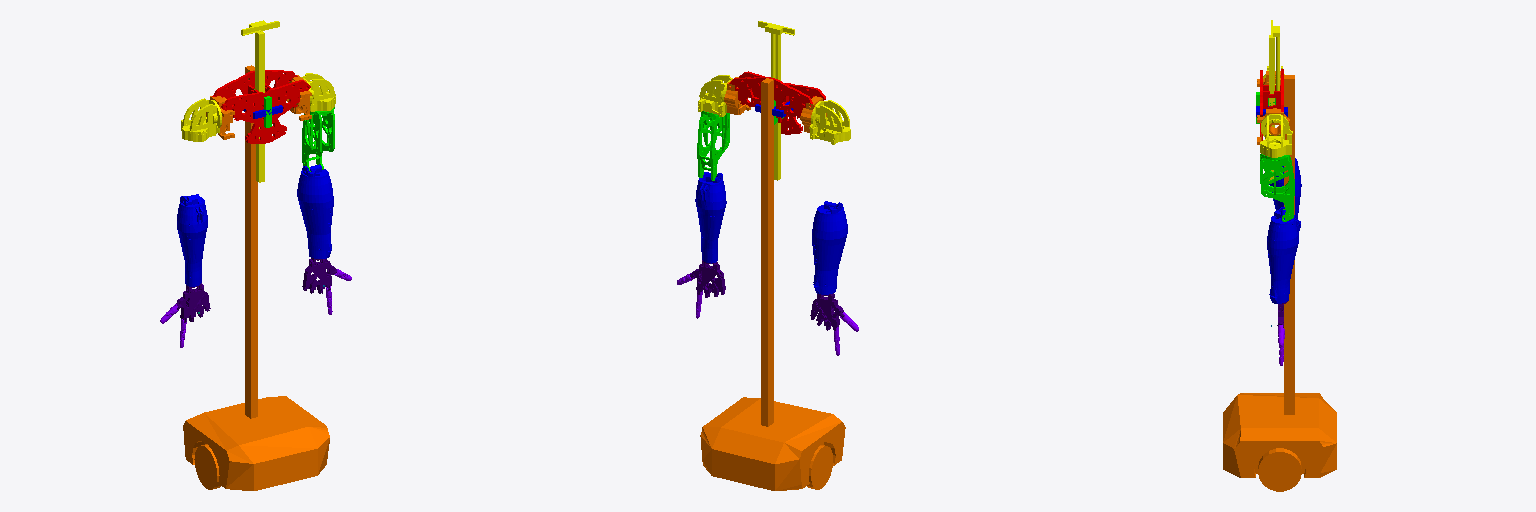
The robot description file, URDF, robot "robo_hand":
<?xml version="1.0" ?>
<!-- =================================================================================== -->
<!-- |    This document was autogenerated by xacro from robo_two_arms_realsense.xacro  | -->
<!-- |    EDITING THIS FILE BY HAND IS NOT RECOMMENDED                                 | -->
<!-- =================================================================================== -->
<robot name="robo_hand" xmlns:xacro="http://ros.org/wiki/xacro">
  <!-- Define a number of dimensions using properties -->
  <!--property name="arm_offset_x" value="-0.143" /-->
  <!--property name="arm_offset_y" value="-0.032" /-->
  <!--property name="arm_offset_z" value="1.302" /-->
  <!-- Include all component files -->
  <!-- Materials -->
  <material name="red">
    <color rgba="1.0 0.0 0.0 0.8"/>
  </material>
  <material name="orange">
    <color rgba="1.0 0.5 0.0 0.8"/>
  </material>
  <material name="yellow">
    <color rgba="1.0 1.0 0.0 0.8"/>
  </material>
  <material name="green">
    <color rgba="0.0 1.0 0.0 0.8"/>
  </material>
  <material name="blue">
    <color rgba="0.0 0.0 1.0 0.8"/>
  </material>
  <material name="indigo">
    <color rgba="0.294 0.0 0.510 0.8"/>
  </material>
  <material name="violet">
    <color rgba="0.561 0.0 1.0 0.8"/>
  </material>
  <material name="realsensecolor">
    <color rgba="0.141 0.529 0.757 0.8"/>
  </material>
  <material name="Black">
    <color rgba="0.2 0.2 0.2 1.0"/>
  </material>
  <material name="TransparentBlack">
    <color rgba="0.2 0.2 0.2 0.8"/>
  </material>
  <material name="Orange">
    <color rgba="1.0  0.55 0.0 1.0"/>
  </material>
  <material name="Grey">
    <color rgba="0.7 0.7 0.7 1.0"/>
  </material>
  <material name="DarkGrey">
    <color rgba="0.3 0.3 0.3 1.0"/>
  </material>
  <material name="Red">
    <color rgba="0.8 0.0 0.0 1.0"/>
  </material>
  <material name="White">
    <color rgba="1.0 1.0 1.0 1.0"/>
  </material>
  <material name="OffWhite">
    <color rgba="0.8 0.8 0.8 1.0"/>
  </material>
  <material name="Blue">
    <color rgba="0.0 0.0 0.8 1.0"/>
  </material>
  <material name="Green">
    <color rgba="0.0 0.8 0.0 1.0"/>
  </material>
  <material name="TransparentGreen">
    <color rgba="0.0 0.8 0.0 0.5"/>
  </material>
  <!-- Variables  -->
  <!-- The base xacro macro -->
  <!-- Define a number of dimensions using properties -->
  <!-- Define the torso -->
  <!-- Now we can start using the macros included above to define the actual robot -->
  <!-- Add the base and wheels -->
  <link name="base_link">
    <visual>
      <origin rpy="0 0 0" xyz="0 0 0"/>
      <geometry>
        <mesh filename="package://robo_description/meshes/base/vis/vis_basewheels_03.STL" scale="0.001 0.001 0.001"/>
      </geometry>
      <material name="orange"/>
    </visual>
    <collision>
      <origin rpy="0 0 0" xyz="0 0 0"/>
      <geometry>
        <mesh filename="package://robo_description/meshes/base/col/col_basewheels_03.STL" scale="0.001 0.001 0.001"/>
      </geometry>
    </collision>
  </link>
  <link name="base_footprint">
    <visual>
      <origin rpy="0 0 0" xyz="0 0 0"/>
      <geometry>
        <box size="0.05 0.05 0.001"/>
      </geometry>
      <material name="TransparentGreen"/>
    </visual>
  </link>
  <joint name="base_joint" type="fixed">
    <origin rpy="0 0 0" xyz="0.0 0.0 0.0"/>
    <parent link="base_footprint"/>
    <child link="base_link"/>
  </joint>
  <!-- Attach the torso -->
  <joint name="base_torso_joint" type="fixed">
    <origin rpy="0 0 0" xyz="0.0 -0.026 1.255"/>
    <parent link="base_link"/>
    <child link="torso_link"/>
  </joint>
  <link name="torso_link">
    <visual>
      <origin rpy="0 0 0" xyz="0 0 0"/>
      <geometry>
        <mesh filename="package://robo_description/meshes/torso/vis/vis_torso_03.STL" scale="0.001 0.001 0.001"/>
      </geometry>
      <material name="red"/>
    </visual>
    <collision>
      <origin rpy="0 0 0" xyz="0 0 0"/>
      <geometry>
        <mesh filename="package://robo_description/meshes/torso/col/col_torso_03.STL" scale="0.001 0.001 0.001"/>
      </geometry>
    </collision>
  </link>
  <!-- Attach the camera -->
  <!-- Telescoping neck joint/link -->
  <joint name="torso_head_tele_joint" type="prismatic">
    <origin rpy="0 0 3.14159" xyz="0.0 0.0 0.0"/>
    <parent link="torso_link"/>
    <child link="head_tele_link"/>
    <axis xyz="0 0 1"/>
    <origin rpy="0 0 0" xyz="0 0 0"/>
    <limit effort="1.0" lower="-0.15" upper="0.15" velocity="0.1"/>
  </joint>
  <link name="head_tele_link">
    <visual>
      <origin rpy="0 0 0" xyz="0 0 0"/>
      <geometry>
        <box size="0.02 0.02 0.5"/>
        <!--mesh filename="package://robo_description/meshes/camera/vis/vis_camera_03.STL" scale="${scale} ${scale} ${scale}" /-->
      </geometry>
      <material name="yellow"/>
    </visual>
    <collision>
      <origin rpy="0 0 0" xyz="0 0 0"/>
      <geometry>
        <box size="0.02 0.02 0.5"/>
        <!--mesh filename="package://robo_description/meshes/camera/col/col_camera_03.STL" scale="${scale} ${scale} ${scale}" /-->
      </geometry>
    </collision>
  </link>
  <!-- Pan joint/link -->
  <joint name="head_pan_joint" type="revolute">
    <axis xyz="0 0 1"/>
    <origin rpy="0 0 0" xyz="0 0 0"/>
    <limit effort="1000.0" lower="-1.570795" upper="1.570795" velocity="0.5"/>
    <parent link="head_tele_link"/>
    <child link="head_pan_link"/>
  </joint>
  <link name="head_pan_link">
    <visual>
      <origin rpy="0 0 0" xyz="0 0 0"/>
      <geometry>
        <box size="0.1 0.1 0.02"/>
      </geometry>
      <material name="blue"/>
    </visual>
    <collision>
      <origin rpy="0 0 0" xyz="0 0 0"/>
      <geometry>
        <box size="0.1 0.1 0.02"/>
      </geometry>
    </collision>
  </link>
  <!-- Tilt joint/link -->
  <joint name="head_tilt_joint" type="revolute">
    <axis xyz="1 0 0"/>
    <origin rpy="0 0 0" xyz="0 0 0"/>
    <limit effort="1000.0" lower="-0.7853975" upper="0.7853975" velocity="0.5"/>
    <parent link="head_pan_link"/>
    <child link="head_tilt_link"/>
  </joint>
  <link name="head_tilt_link">
    <visual>
      <origin rpy="0 0 0" xyz="0 0 0"/>
      <geometry>
        <box size="0.02 0.1 0.1"/>
      </geometry>
      <material name="green"/>
    </visual>
    <collision>
      <origin rpy="0 0 0" xyz="0 0 0"/>
      <geometry>
        <box size="0.02 0.1 0.1"/>
      </geometry>
    </collision>
  </link>
  <!-- Realsense joint/link -->
  <joint name="head_realsense_joint" type="fixed">
    <origin rpy="0 0 3.14159" xyz="0.0 0.0 0.0"/>
    <parent link="head_tilt_link"/>
    <child link="realsense_frame"/>
  </joint>
  <link name="realsense_frame">
    <visual>
      <origin rpy="0 0 0" xyz="0 0 0"/>
      <geometry>
        <mesh filename="package://robo_description/meshes/camera/vis/vis_camera_03.STL" scale="0.001 0.001 0.001"/>
      </geometry>
      <material name="yellow"/>
    </visual>
    <collision>
      <origin rpy="0 0 0" xyz="0 0 0"/>
      <geometry>
        <!--box size="0.1 0.02 0.02"/-->
        <mesh filename="package://robo_description/meshes/camera/col/col_camera_03.STL" scale="0.001 0.001 0.001"/>
      </geometry>
    </collision>
  </link>
  <!-- camera_depth_optical_frame -->
  <joint name="head_depth_joint" type="fixed">
    <origin rpy="0 0 0" xyz="0 0.0 0.268"/>
    <parent link="realsense_frame"/>
    <child link="camera_depth_optical_frame"/>
  </joint>
  <link name="camera_depth_optical_frame">
    <inertial>
      <mass value="0.000001"/>
      <origin xyz="0 0 0"/>
      <inertia ixx="0.0001" ixy="0.0" ixz="0.0" iyy="0.0001" iyz="0.0" izz="0.0001"/>
    </inertial>
  </link>
  <!-- camera_color_optical_frame -->
  <joint name="head_rgb_joint" type="fixed">
    <origin rpy="0 0 0" xyz="0.05 0 0.268"/>
    <parent link="realsense_frame"/>
    <child link="camera_color_optical_frame"/>
  </joint>
  <link name="camera_color_optical_frame">
    <inertial>
      <mass value="0.000001"/>
      <origin xyz="0 0 0"/>
      <inertia ixx="0.0001" ixy="0.0" ixz="0.0" iyy="0.0001" iyz="0.0" izz="0.0001"/>
    </inertial>
  </link>
  <!-- Attach the right arm -->
  <!-- arm base joint -->
  <link name="right_arm_base_link"/>
  <joint name="right_arm_base_joint" type="fixed">
    <origin rpy="0 0 0" xyz="-0.143 0.0055 0.047"/>
    <parent link="torso_link"/>
    <child link="right_arm_base_link"/>
  </joint>
  <!-- Shoulder_A -->
  <link name="right_arm_shouldera_link">
    <visual>
      <origin rpy="0 0 0" xyz="0 0 0"/>
      <geometry>
        <mesh filename="package://robo_description/meshes/arm/vis/vis_right_shouldera_03.STL" scale="0.001 0.001 0.001"/>
      </geometry>
      <material name="orange"/>
    </visual>
    <collision>
      <origin rpy="0 0 0" xyz="0 0 0"/>
      <geometry>
        <mesh filename="package://robo_description/meshes/arm/col/col_right_shouldera_03.STL" scale="0.001 0.001 0.001"/>
      </geometry>
    </collision>
  </link>
  <joint name="right_arm_out_joint" type="revolute">
    <axis xyz="0 1.0 0"/>
    <origin rpy="0 0 0" xyz="0 0 0"/>
    <limit effort="1000.0" lower="0.0" upper="1.5707963" velocity="0.5"/>
    <parent link="right_arm_base_link"/>
    <child link="right_arm_shouldera_link"/>
  </joint>
  <!-- Shoulder_B -->
  <link name="right_arm_shoulderb_link">
    <visual>
      <origin rpy="0 0 0" xyz="0 0 0"/>
      <geometry>
        <mesh filename="package://robo_description/meshes/arm/vis/vis_right_shoulderb_03.STL" scale="0.001 0.001 0.001"/>
      </geometry>
      <material name="yellow"/>
    </visual>
    <collision>
      <origin rpy="0 0 0" xyz="0 0 0"/>
      <geometry>
        <mesh filename="package://robo_description/meshes/arm/col/col_right_shoulderb_03.STL" scale="0.001 0.001 0.001"/>
      </geometry>
    </collision>
  </link>
  <joint name="right_arm_fwd_joint" type="revolute">
    <axis xyz="-1 0 0"/>
    <origin rpy="0 0 0" xyz="-0.012 0.005 -0.04"/>
    <limit effort="1000.0" lower="0.0" upper="1.570795" velocity="0.5"/>
    <parent link="right_arm_shouldera_link"/>
    <child link="right_arm_shoulderb_link"/>
  </joint>
  <!-- Biceps -->
  <link name="right_arm_biceps_link">
    <visual>
      <origin rpy="0 0 0" xyz="0 0 0"/>
      <geometry>
        <mesh filename="package://robo_description/meshes/arm/vis/vis_right_biceps_03.STL" scale="0.001 0.001 0.001"/>
      </geometry>
      <material name="green"/>
    </visual>
    <collision>
      <origin rpy="0 0 0" xyz="0 0 0"/>
      <geometry>
        <mesh filename="package://robo_description/meshes/arm/col/col_right_biceps_03.STL" scale="0.001 0.001 0.001"/>
      </geometry>
    </collision>
  </link>
  <joint name="right_arm_rotate_joint" type="revolute">
    <axis xyz="0 0 -1"/>
    <origin rpy="0 0 0" xyz="-0.06 0 -0.059"/>
    <limit effort="1000.0" lower="-1.570795" upper="1.570795" velocity="0.5"/>
    <parent link="right_arm_shoulderb_link"/>
    <child link="right_arm_biceps_link"/>
  </joint>
  <!-- Forearm -->
  <link name="right_arm_forearm_link">
    <visual>
      <origin rpy="0 0 0" xyz="0 0 0"/>
      <geometry>
        <mesh filename="package://robo_description/meshes/arm/vis/vis_right_forearm_03.STL" scale="0.001 0.001 0.001"/>
      </geometry>
      <material name="blue"/>
    </visual>
    <collision>
      <origin rpy="0 0 0" xyz="0 0 0"/>
      <geometry>
        <mesh filename="package://robo_description/meshes/arm/col/col_right_forearm_03.STL" scale="0.001 0.001 0.001"/>
      </geometry>
    </collision>
  </link>
  <joint name="right_elbow_joint" type="revolute">
    <axis xyz="-1 0 0"/>
    <origin rpy="0 0 0" xyz="0 0.029 -0.225"/>
    <limit effort="1000.0" lower="0.0" upper="1.570795" velocity="0.5"/>
    <parent link="right_arm_biceps_link"/>
    <child link="right_arm_forearm_link"/>
  </joint>
  <!-- Wrist/Hand -->
  <link name="right_arm_wrist_link">
    <visual>
      <origin rpy="0 0 0" xyz="0 0 0"/>
      <geometry>
        <mesh filename="package://robo_description/meshes/arm/vis/vis_right_hand_03.STL" scale="0.001 0.001 0.001"/>
      </geometry>
      <material name="indigo"/>
    </visual>
    <collision>
      <origin rpy="0 0 0" xyz="0 0 0"/>
      <geometry>
        <mesh filename="package://robo_description/meshes/arm/col/col_right_hand_03.STL" scale="0.001 0.001 0.001"/>
      </geometry>
    </collision>
  </link>
  <joint name="right_wrist_joint" type="revolute">
    <axis xyz="0 0 1.0"/>
    <!--origin rpy="0 0 0" xyz=".009972 .012326 -.288718"/-->
    <origin rpy="0 0 0" xyz="0.008 0.01 -0.2888"/>
    <limit effort="1000.0" lower="0.0" upper="3.14159" velocity="0.5"/>
    <parent link="right_arm_forearm_link"/>
    <child link="right_arm_wrist_link"/>
  </joint>
  <!-- Attach the right gripper -->
  <!-- gripper base joint -->
  <link name="right_gripper_base_link"/>
  <joint name="right_gripper_base_joint" type="fixed">
    <origin rpy="0 0 0" xyz="0 0 0"/>
    <parent link="right_arm_wrist_link"/>
    <child link="right_gripper_base_link"/>
  </joint>
  <!-- Index -->
  <link name="right_gripper_index_link">
    <inertial>
      <mass value="0.00001"/>
      <origin xyz="0 0 0"/>
      <inertia ixx="1.0" ixy="0.0" ixz="0.0" iyy="1.0" iyz="0.0" izz="1.0"/>
    </inertial>
    <visual>
      <origin rpy="0 0 0" xyz="0 0 0"/>
      <geometry>
        <mesh filename="package://robo_description/meshes/arm/vis/vis_right_index_03.STL" scale="0.001 0.001 0.001"/>
      </geometry>
      <material name="violet"/>
    </visual>
    <collision>
      <origin rpy="0 0 0" xyz="0 0 0"/>
      <geometry>
        <mesh filename="package://robo_description/meshes/arm/col/col_right_index_03.STL" scale="0.001 0.001 0.001"/>
      </geometry>
    </collision>
  </link>
  <joint name="right_gripper_index_joint" type="revolute">
    <origin rpy="0 0 0" xyz="-0.034 0 -0.119"/>
    <axis xyz="-1 0 0"/>
    <limit effort="1.0" lower="0.0" upper="1.570795" velocity="3.14"/>
    <parent link="right_gripper_base_link"/>
    <child link="right_gripper_index_link"/>
  </joint>
  <!-- Thumb -->
  <link name="right_gripper_thumb_link">
    <inertial>
      <mass value="0.00001"/>
      <origin xyz="0 0 0"/>
      <inertia ixx="1.0" ixy="0.0" ixz="0.0" iyy="1.0" iyz="0.0" izz="1.0"/>
    </inertial>
    <visual>
      <origin rpy="0 0 0" xyz="0 0 0"/>
      <geometry>
        <mesh filename="package://robo_description/meshes/arm/vis/vis_right_thumb_03.STL" scale="0.001 0.001 0.001"/>
      </geometry>
      <material name="violet"/>
    </visual>
    <collision>
      <origin rpy="0 0 0" xyz="0 0 0"/>
      <geometry>
        <mesh filename="package://robo_description/meshes/arm/col/col_right_thumb_03.STL" scale="0.001 0.001 0.001"/>
      </geometry>
    </collision>
  </link>
  <joint name="right_gripper_thumb_joint" type="revolute">
    <origin rpy="0 0 0" xyz="-0.06 0 -0.0685"/>
    <axis xyz="0 0 1.0"/>
    <limit effort="1.0" lower="0.0" upper="1.570795" velocity="3.14"/>
    <parent link="right_gripper_base_link"/>
    <child link="right_gripper_thumb_link"/>
  </joint>
  <!-- Fake gripper link and joint for grasp planning -->
  <link name="right_gripper_link">
    <visual>
      <origin rpy="0 0 0" xyz="0 0 0"/>
      <geometry>
        <box size="0.005 0.005 0.005"/>
      </geometry>
    </visual>
    <collision>
      <origin rpy="0 0 0" xyz="0 0 0"/>
      <geometry>
        <box size="0.005 0.005 0.005"/>
      </geometry>
    </collision>
  </link>
  <joint name="right_gripper_joint" type="fixed">
    <origin rpy="-1.570795 0 0" xyz="0 -0.03 -0.09"/>
    <parent link="right_gripper_base_link"/>
    <child link="right_gripper_link"/>
  </joint>
  <!-- Attach the left arm -->
  <!-- arm base joint -->
  <link name="left_arm_base_link"/>
  <joint name="left_arm_base_joint" type="fixed">
    <origin rpy="0 0 0" xyz="0.143 0.0055 0.047"/>
    <parent link="torso_link"/>
    <child link="left_arm_base_link"/>
  </joint>
  <!-- Shoulder_A -->
  <link name="left_arm_shouldera_link">
    <visual>
      <origin rpy="0 0 0" xyz="0 0 0"/>
      <geometry>
        <mesh filename="package://robo_description/meshes/arm/vis/vis_left_shouldera_03.STL" scale="0.001 0.001 0.001"/>
      </geometry>
      <material name="orange"/>
    </visual>
    <collision>
      <origin rpy="0 0 0" xyz="0 0 0"/>
      <geometry>
        <mesh filename="package://robo_description/meshes/arm/col/col_left_shouldera_03.STL" scale="0.001 0.001 0.001"/>
      </geometry>
    </collision>
  </link>
  <joint name="left_arm_out_joint" type="revolute">
    <axis xyz="0 -1.0 0"/>
    <origin rpy="0 0 0" xyz="0 0 0"/>
    <limit effort="1000.0" lower="0.0" upper="1.5707963" velocity="0.5"/>
    <parent link="left_arm_base_link"/>
    <child link="left_arm_shouldera_link"/>
  </joint>
  <!-- Shoulder_B -->
  <link name="left_arm_shoulderb_link">
    <visual>
      <origin rpy="0 0 0" xyz="0 0 0"/>
      <geometry>
        <mesh filename="package://robo_description/meshes/arm/vis/vis_left_shoulderb_03.STL" scale="0.001 0.001 0.001"/>
      </geometry>
      <material name="yellow"/>
    </visual>
    <collision>
      <origin rpy="0 0 0" xyz="0 0 0"/>
      <geometry>
        <mesh filename="package://robo_description/meshes/arm/col/col_left_shoulderb_03.STL" scale="0.001 0.001 0.001"/>
      </geometry>
    </collision>
  </link>
  <joint name="left_arm_fwd_joint" type="revolute">
    <axis xyz="-1 0 0"/>
    <origin rpy="0 0 0" xyz="0.012 0.005 -0.04"/>
    <limit effort="1000.0" lower="0.0" upper="1.570795" velocity="0.5"/>
    <parent link="left_arm_shouldera_link"/>
    <child link="left_arm_shoulderb_link"/>
  </joint>
  <!-- Biceps -->
  <link name="left_arm_biceps_link">
    <visual>
      <origin rpy="0 0 0" xyz="0 0 0"/>
      <geometry>
        <mesh filename="package://robo_description/meshes/arm/vis/vis_left_biceps_03.STL" scale="0.001 0.001 0.001"/>
      </geometry>
      <material name="green"/>
    </visual>
    <collision>
      <origin rpy="0 0 0" xyz="0 0 0"/>
      <geometry>
        <mesh filename="package://robo_description/meshes/arm/col/col_left_biceps_03.STL" scale="0.001 0.001 0.001"/>
      </geometry>
    </collision>
  </link>
  <joint name="left_arm_rotate_joint" type="revolute">
    <axis xyz="0 0 1"/>
    <origin rpy="0 0 0" xyz="0.06 0 -0.059"/>
    <limit effort="1000.0" lower="-1.570795" upper="1.570795" velocity="0.5"/>
    <parent link="left_arm_shoulderb_link"/>
    <child link="left_arm_biceps_link"/>
  </joint>
  <!-- Forearm -->
  <link name="left_arm_forearm_link">
    <visual>
      <origin rpy="0 0 0" xyz="0 0 0"/>
      <geometry>
        <mesh filename="package://robo_description/meshes/arm/vis/vis_left_forearm_03.STL" scale="0.001 0.001 0.001"/>
      </geometry>
      <material name="blue"/>
    </visual>
    <collision>
      <origin rpy="0 0 0" xyz="0 0 0"/>
      <geometry>
        <mesh filename="package://robo_description/meshes/arm/col/col_left_forearm_03.STL" scale="0.001 0.001 0.001"/>
      </geometry>
    </collision>
  </link>
  <joint name="left_elbow_joint" type="revolute">
    <axis xyz="-1 0 0"/>
    <origin rpy="0 0 0" xyz="0 0.029 -0.225"/>
    <limit effort="1000.0" lower="0.0" upper="1.570795" velocity="0.5"/>
    <parent link="left_arm_biceps_link"/>
    <child link="left_arm_forearm_link"/>
  </joint>
  <!-- Wrist/Hand -->
  <link name="left_arm_wrist_link">
    <visual>
      <origin rpy="0 0 0" xyz="0 0 0"/>
      <geometry>
        <mesh filename="package://robo_description/meshes/arm/vis/vis_left_hand_03.STL" scale="0.001 0.001 0.001"/>
      </geometry>
      <material name="indigo"/>
    </visual>
    <collision>
      <origin rpy="0 0 0" xyz="0 0 0"/>
      <geometry>
        <mesh filename="package://robo_description/meshes/arm/col/col_left_hand_03.STL" scale="0.001 0.001 0.001"/>
      </geometry>
    </collision>
  </link>
  <joint name="left_wrist_joint" type="revolute">
    <axis xyz="0 0 -1.0"/>
    <!--origin rpy="0 0 0" xyz=".009972 .012326 -.288718"/-->
    <origin rpy="0 0 0" xyz="0.008 -0.01 -0.2888"/>
    <limit effort="1000.0" lower="0.0" upper="3.14159" velocity="0.5"/>
    <parent link="left_arm_forearm_link"/>
    <child link="left_arm_wrist_link"/>
  </joint>
  <!-- Attach the left gripper -->
  <!-- gripper base joint -->
  <link name="left_gripper_base_link"/>
  <joint name="left_gripper_base_joint" type="fixed">
    <origin rpy="0 0 0" xyz="0 0 0"/>
    <parent link="left_arm_wrist_link"/>
    <child link="left_gripper_base_link"/>
  </joint>
  <!-- Index -->
  <link name="left_gripper_index_link">
    <inertial>
      <mass value="0.00001"/>
      <origin xyz="0 0 0"/>
      <inertia ixx="1.0" ixy="0.0" ixz="0.0" iyy="1.0" iyz="0.0" izz="1.0"/>
    </inertial>
    <visual>
      <origin rpy="0 0 0" xyz="0 0 0"/>
      <geometry>
        <mesh filename="package://robo_description/meshes/arm/vis/vis_left_index_03.STL" scale="0.001 0.001 0.001"/>
      </geometry>
      <material name="violet"/>
    </visual>
    <collision>
      <origin rpy="0 0 0" xyz="0 0 0"/>
      <geometry>
        <mesh filename="package://robo_description/meshes/arm/col/col_left_index_03.STL" scale="0.001 0.001 0.001"/>
      </geometry>
    </collision>
  </link>
  <joint name="left_gripper_index_joint" type="revolute">
    <origin rpy="0 0 0" xyz="0.034 0 -0.119"/>
    <axis xyz="-1 0 0"/>
    <limit effort="1.0" lower="0.0" upper="1.570795" velocity="3.14"/>
    <parent link="left_gripper_base_link"/>
    <child link="left_gripper_index_link"/>
  </joint>
  <!-- Thumb -->
  <link name="left_gripper_thumb_link">
    <inertial>
      <mass value="0.00001"/>
      <origin xyz="0 0 0"/>
      <inertia ixx="1.0" ixy="0.0" ixz="0.0" iyy="1.0" iyz="0.0" izz="1.0"/>
    </inertial>
    <visual>
      <origin rpy="0 0 0" xyz="0 0 0"/>
      <geometry>
        <mesh filename="package://robo_description/meshes/arm/vis/vis_left_thumb_03.STL" scale="0.001 0.001 0.001"/>
      </geometry>
      <material name="violet"/>
    </visual>
    <collision>
      <origin rpy="0 0 0" xyz="0 0 0"/>
      <geometry>
        <mesh filename="package://robo_description/meshes/arm/col/col_left_thumb_03.STL" scale="0.001 0.001 0.001"/>
      </geometry>
    </collision>
  </link>
  <joint name="left_gripper_thumb_joint" type="revolute">
    <origin rpy="0 0 0" xyz="0.06 0 -0.0685"/>
    <axis xyz="0 0 -1.0"/>
    <limit effort="1.0" lower="0.0" upper="1.570795" velocity="3.14"/>
    <parent link="left_gripper_base_link"/>
    <child link="left_gripper_thumb_link"/>
  </joint>
  <!-- Fake gripper link and joint for grasp planning -->
  <link name="left_gripper_link">
    <visual>
      <origin rpy="0 0 0" xyz="0 0 0"/>
      <geometry>
        <box size="0.005 0.005 0.005"/>
      </geometry>
    </visual>
    <collision>
      <origin rpy="0 0 0" xyz="0 0 0"/>
      <geometry>
        <box size="0.005 0.005 0.005"/>
      </geometry>
    </collision>
  </link>
  <joint name="left_gripper_joint" type="fixed">
    <origin rpy="-1.570795 0 0" xyz="0 -0.03 -0.09"/>
    <parent link="left_gripper_base_link"/>
    <child link="left_gripper_link"/>
  </joint>
</robot>

--- What the picture shows (computed from the rendered views, not written in the file) ---
The picture shows the robot from 3 angles, left to right: view 1: azimuth 30°, elevation 25°; view 2: azimuth 150°, elevation 25°; view 3: azimuth 270°, elevation 25°; orthographic projection.
Model robo_hand with 29 links and 28 joints (16 revolute, 1 prismatic, 11 fixed), rooted at base_footprint, posed every joint at zero.
Links seen in each view (by area): view 1: base_link, torso_link, left_arm_forearm_link, right_arm_forearm_link, left_arm_biceps_link, right_arm_shoulderb_link, head_tele_link, left_arm_shoulderb_link, right_arm_wrist_link, left_arm_wrist_link; view 2: base_link, right_arm_forearm_link, torso_link, left_arm_forearm_link, left_arm_biceps_link, right_arm_shoulderb_link, left_arm_shoulderb_link, left_arm_wrist_link, right_arm_wrist_link, head_tele_link; view 3: base_link, left_arm_forearm_link, left_arm_biceps_link, left_arm_shoulderb_link, torso_link.
Link boxes in pixels (box(x1,y1,x2,y2)): base_link: box(183, 65, 329, 490); torso_link: box(212, 70, 310, 143); left_arm_forearm_link: box(297, 164, 333, 258); right_arm_forearm_link: box(177, 194, 207, 286); left_arm_biceps_link: box(302, 107, 334, 171); right_arm_shoulderb_link: box(181, 98, 221, 141); head_tele_link: box(256, 31, 264, 182); left_arm_shoulderb_link: box(301, 73, 335, 111); right_arm_wrist_link: box(176, 283, 210, 322); left_arm_wrist_link: box(302, 258, 336, 293); base_link: box(700, 78, 845, 490); right_arm_forearm_link: box(812, 201, 847, 294); torso_link: box(729, 71, 825, 134); left_arm_forearm_link: box(695, 172, 726, 263); left_arm_biceps_link: box(697, 111, 729, 180); right_arm_shoulderb_link: box(809, 100, 850, 144); left_arm_shoulderb_link: box(698, 75, 732, 116); left_arm_wrist_link: box(690, 260, 725, 297); right_arm_wrist_link: box(810, 293, 843, 330); head_tele_link: box(774, 34, 780, 180); base_link: box(1223, 75, 1336, 491); left_arm_forearm_link: box(1267, 207, 1300, 303); left_arm_biceps_link: box(1260, 154, 1294, 221); left_arm_shoulderb_link: box(1260, 114, 1292, 157); torso_link: box(1260, 69, 1283, 140).
Bounding box of the posed robot: 0.6635 × 0.3608 × 1.53 m (x, y, z).
Meshes: 17 distinct files referenced, 16 mesh visuals loaded (16 binary STL); not drawn: 1 (reference not matched to a file when rendering).